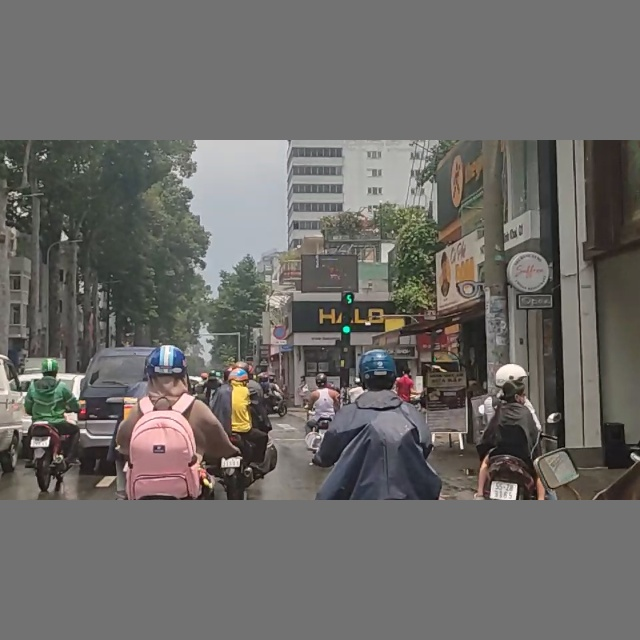P.131a: (272, 325, 287, 340)
